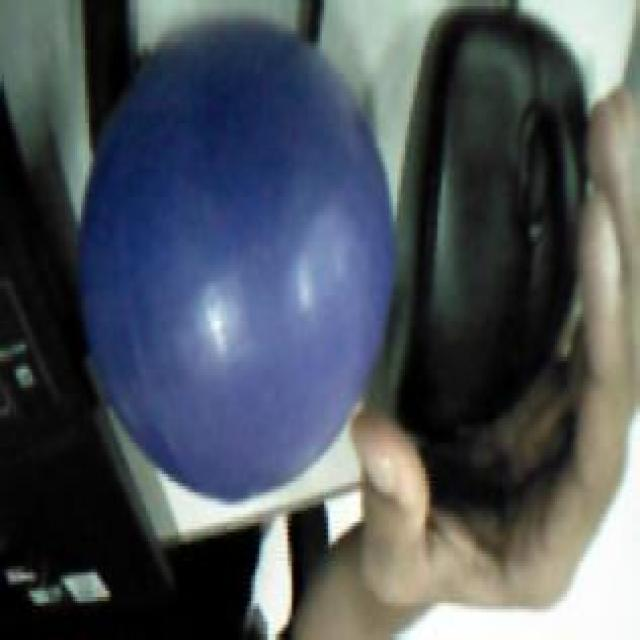BallPurple: (79, 19, 395, 501)
